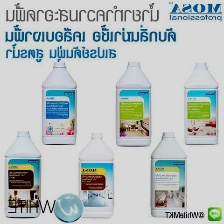cleaning_solution: (2, 127, 44, 222), (75, 131, 116, 220), (39, 60, 81, 146), (149, 129, 188, 220), (113, 59, 153, 147), (183, 59, 220, 147)
